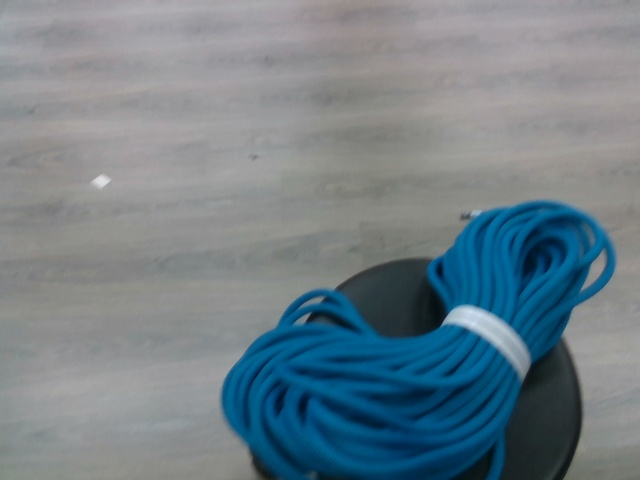rope: (220, 200, 619, 480)
